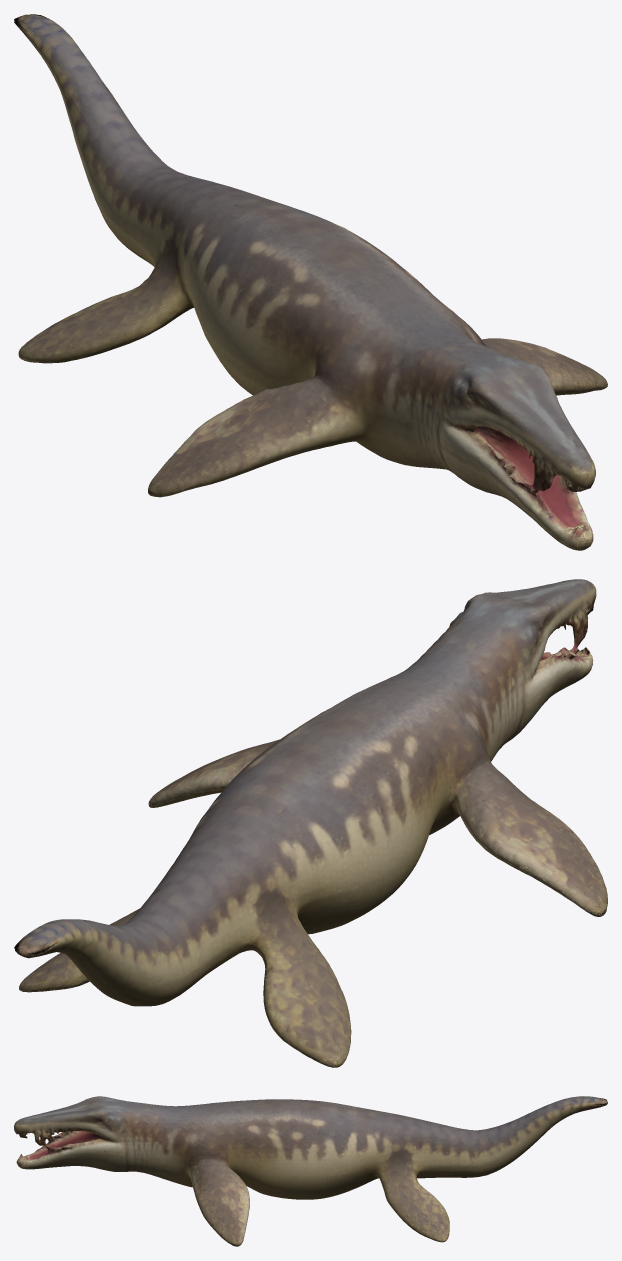
3 views of the same model, one above another, from view 1: azimuth 30°, elevation 25°; view 2: azimuth 150°, elevation 25°; view 3: azimuth 270°, elevation 25° (orthographic). The views are drawn at different scales.
Visible parts, largest first — view 1: world; view 2: world; view 3: world.
Part boxes in pixels (bbox=[...]): world: bbox=[14, 14, 607, 550]; world: bbox=[14, 579, 607, 1067]; world: bbox=[14, 1096, 607, 1246].
Size of the model in its own units: 1.99 by 0.8291 by 4.3.
Materials: 1 (1 with a texture image).
